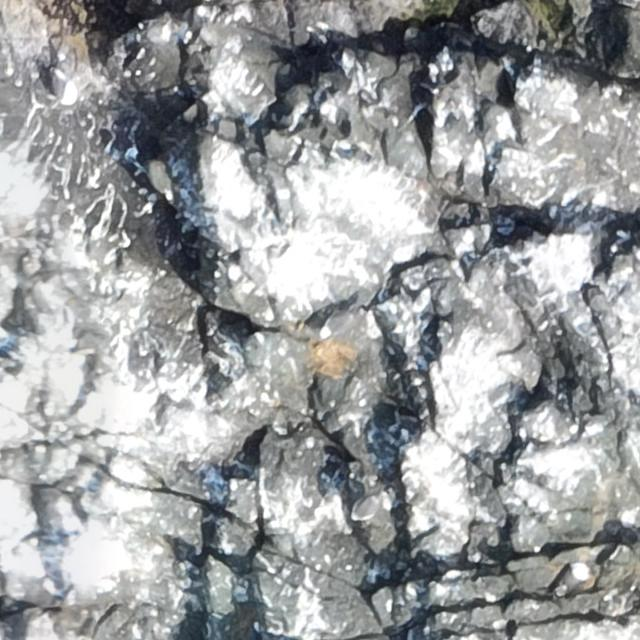umineko: (47, 65, 80, 110), (560, 562, 588, 596)
